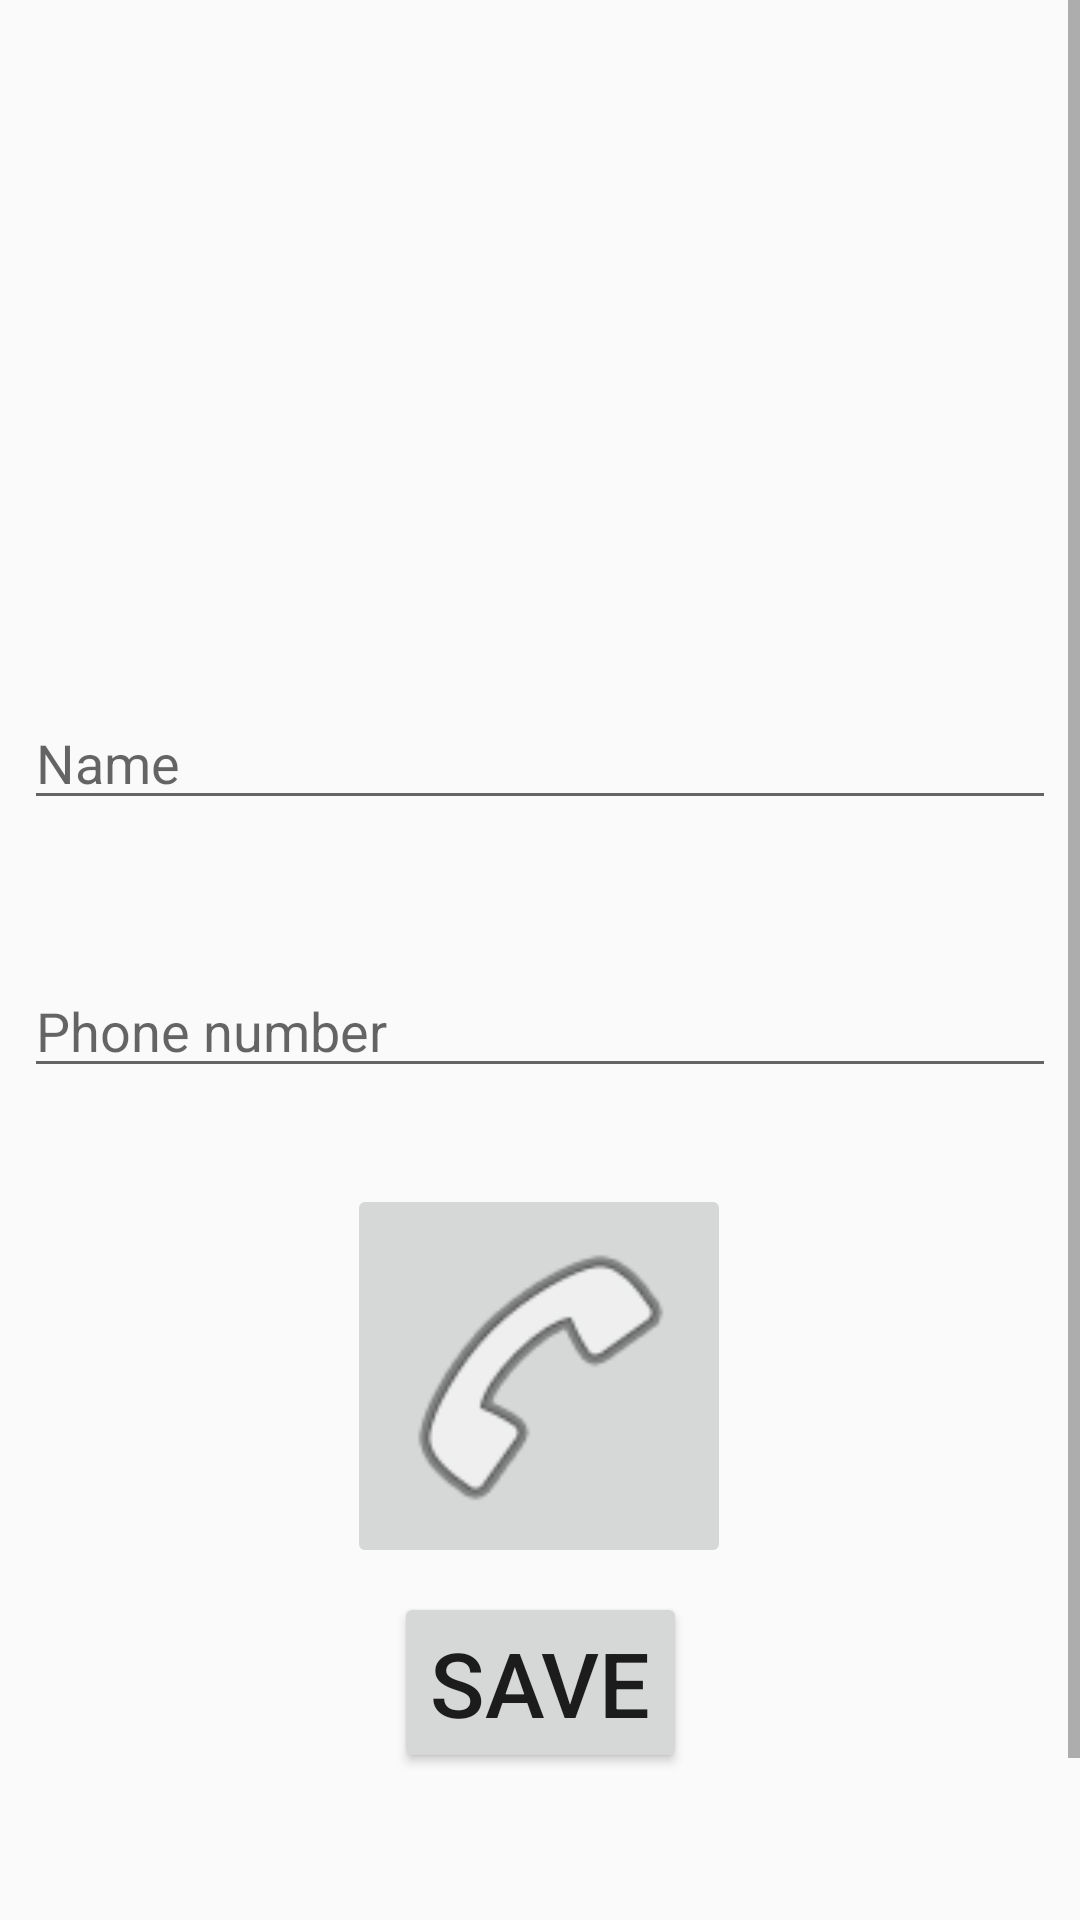

Icons on this 1080x1920 Android screen, each with the point to tap as (x=x, y=y):
Call image: (x=539, y=1376)
